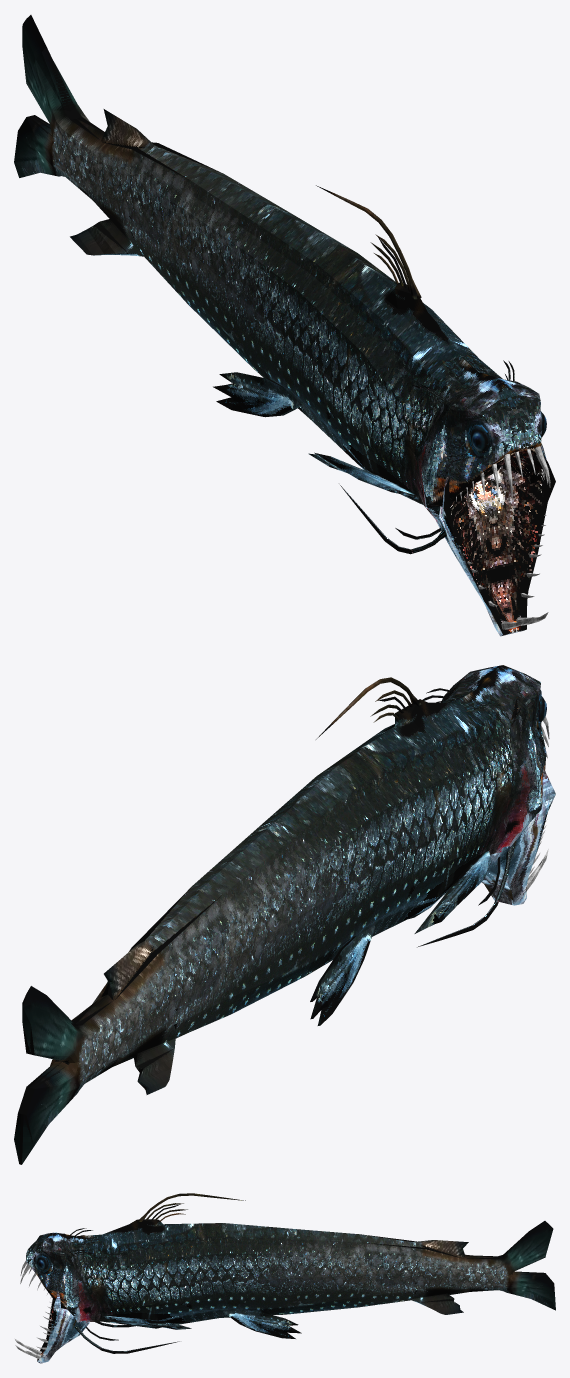
File: fish_01.glb
3 renders of one model, top to bottom at view 1: azimuth 30°, elevation 25°; view 2: azimuth 150°, elevation 25°; view 3: azimuth 270°, elevation 25°, orthographic. The views are drawn at different scales.
Visible parts, largest first — view 1: body, jaw; view 2: body, jaw, Cylinder.008; view 3: body, jaw, Cylinder.008, Cylinder.
Boxes of the visible parts, box(x1,y1,x2,y2) form: body: box(14, 15, 546, 526); jaw: box(435, 460, 555, 636); body: box(14, 665, 546, 1164); jaw: box(482, 767, 555, 905); Cylinder.008: box(417, 845, 514, 947); body: box(26, 1219, 555, 1338); jaw: box(37, 1290, 89, 1363); Cylinder.008: box(74, 1321, 179, 1353); Cylinder: box(138, 1193, 245, 1221).
Size of the model in its own units: 27.06 by 56.26 by 165.
5 materials, 5 textured.
